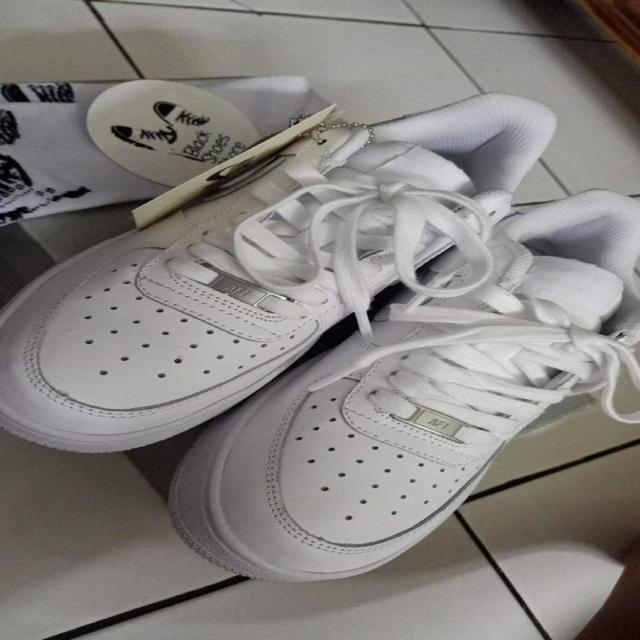nike fake air force: (0, 90, 596, 457), (166, 185, 640, 585)
